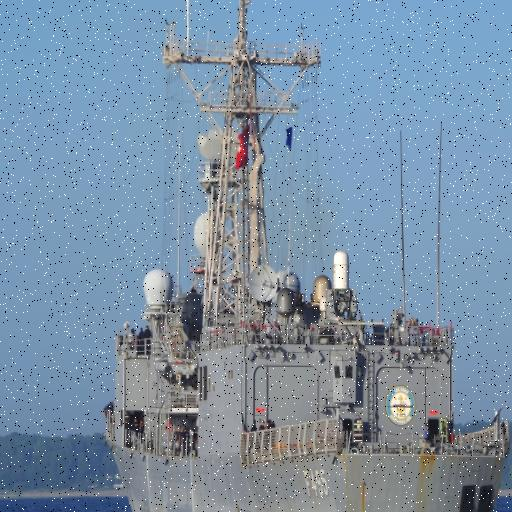Fragata: (102, 1, 512, 512)
